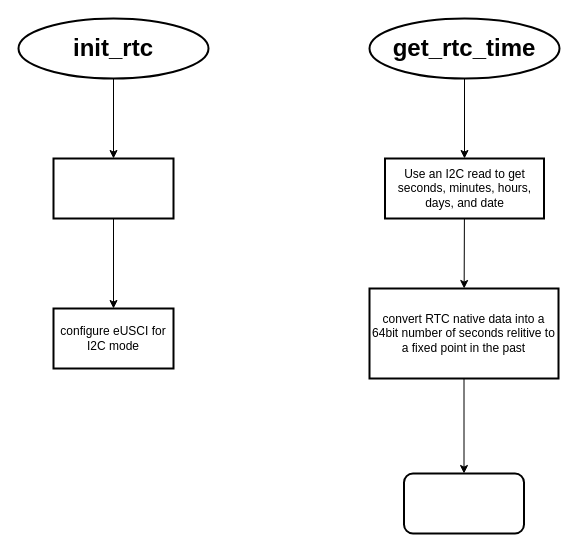
Image size: 577x551. Some labels were removed from this diagram. The box of each missing label's shape, as (x1, y1, x2, y2) in pixels:
Configure pins as outputs: (52, 157, 174, 219)
Return seconds count to caller: (402, 472, 524, 534)
